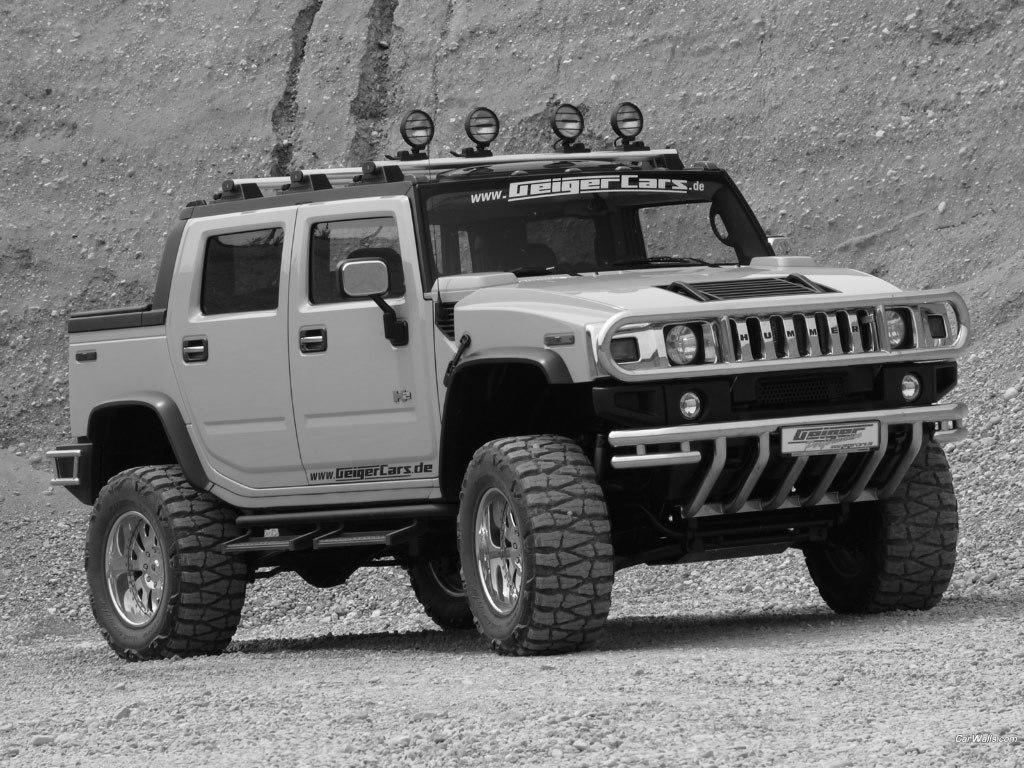car: (39, 85, 978, 671)
